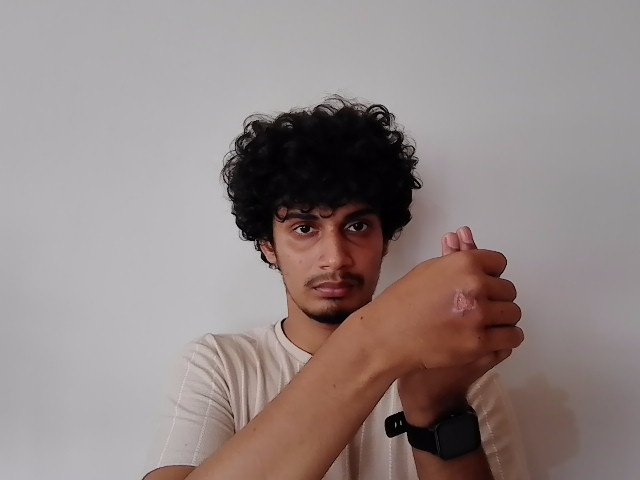with: (361, 226, 541, 403)
